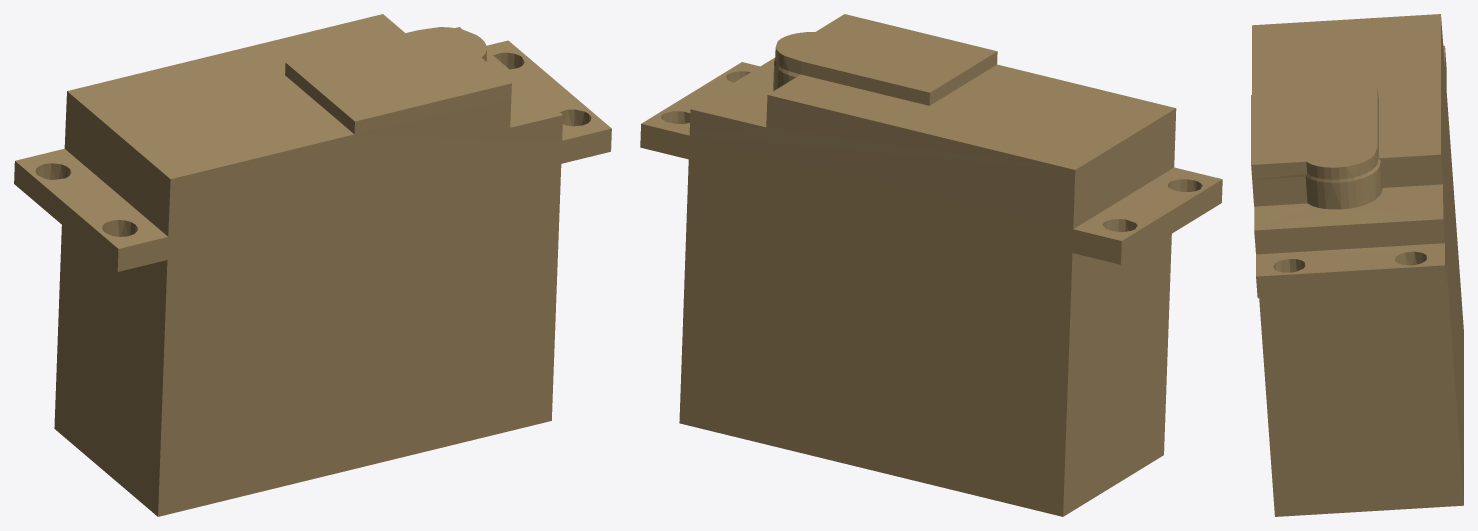
File: Texture.224.dae.light.glb
3 views of the same model, side by side, from view 1: azimuth 30°, elevation 25°; view 2: azimuth 150°, elevation 25°; view 3: azimuth 270°, elevation 25° (orthographic). The views are drawn at different scales.
Size of the model in its own units: 0.7755 by 0.5533 by 0.3176.
